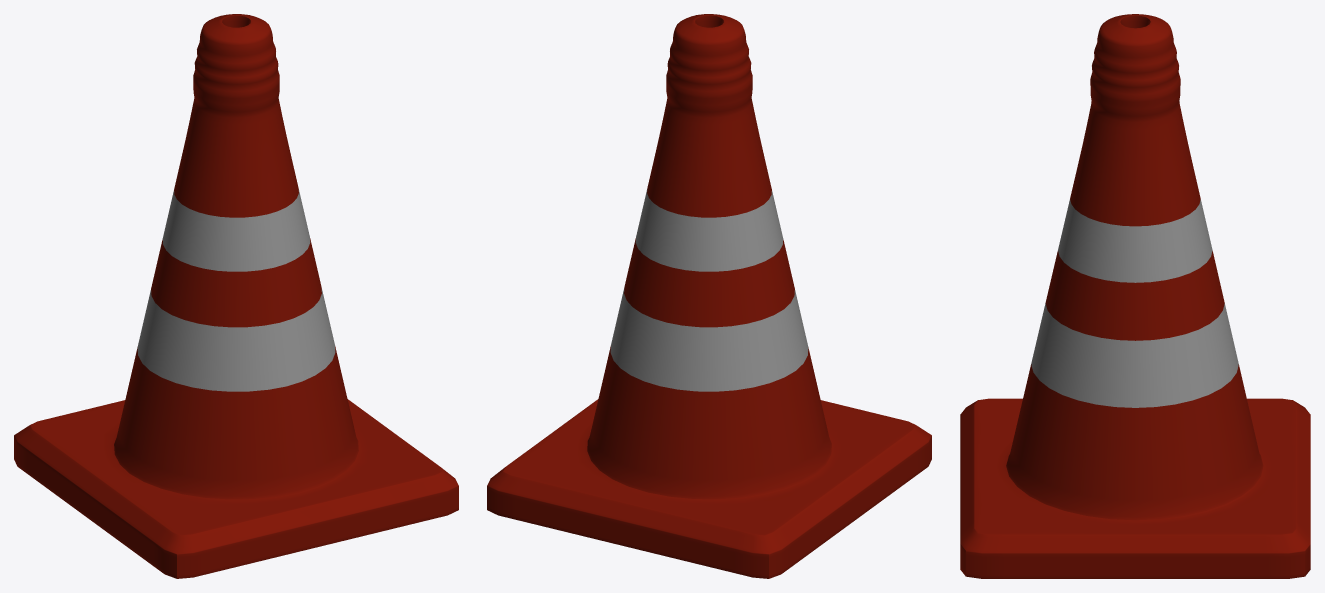
The model's file is конус (2).fbx.
3 views of the same model, side by side, from view 1: azimuth 30°, elevation 25°; view 2: azimuth 150°, elevation 25°; view 3: azimuth 270°, elevation 25° (orthographic). The views are drawn at different scales.
Parts seen in each view (by area): view 1: Cube; view 2: Cube; view 3: Cube.
Boxes of the visible parts, box(x1,y1,x2,y2) form: Cube: box(14, 14, 458, 578); Cube: box(487, 14, 931, 578); Cube: box(960, 14, 1310, 578).
Size of the model in its own units: 200 by 305 by 200.
